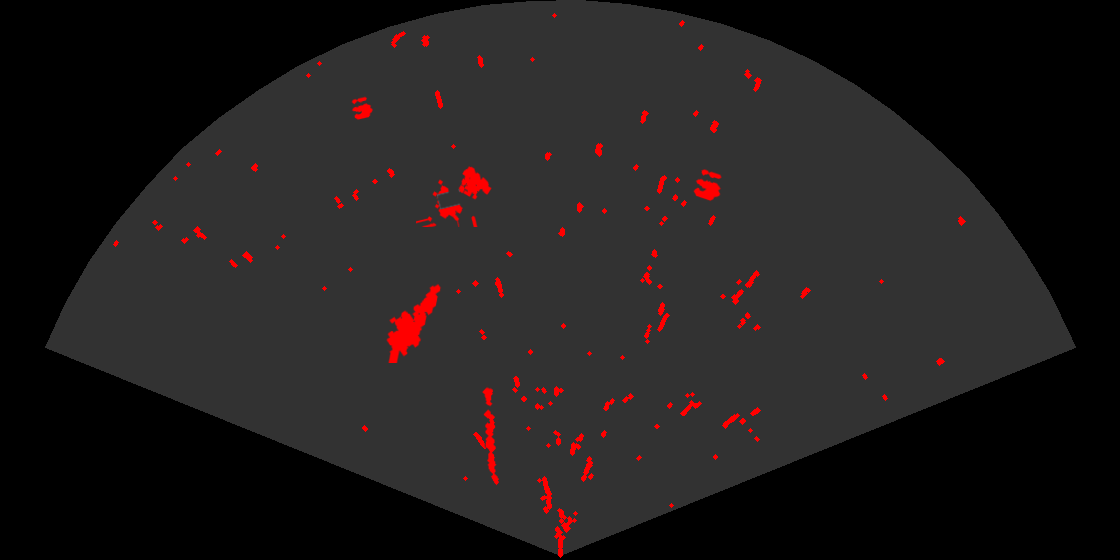ball: (692, 168, 723, 203), (350, 95, 374, 121)
cage: (416, 165, 493, 227)
chain: (481, 385, 500, 486)
frogman: (385, 282, 443, 363)
